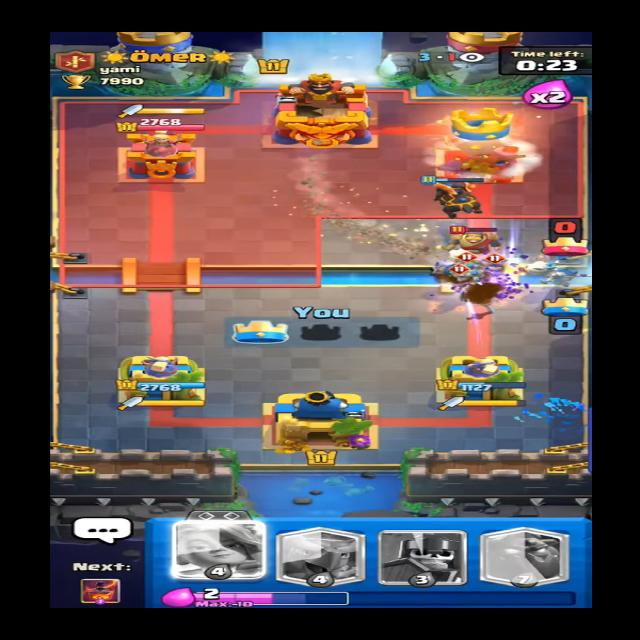evo-skeleton: (485, 259, 515, 280), (449, 263, 474, 283)
knight: (448, 224, 502, 251)
trail: (289, 195, 417, 261)
